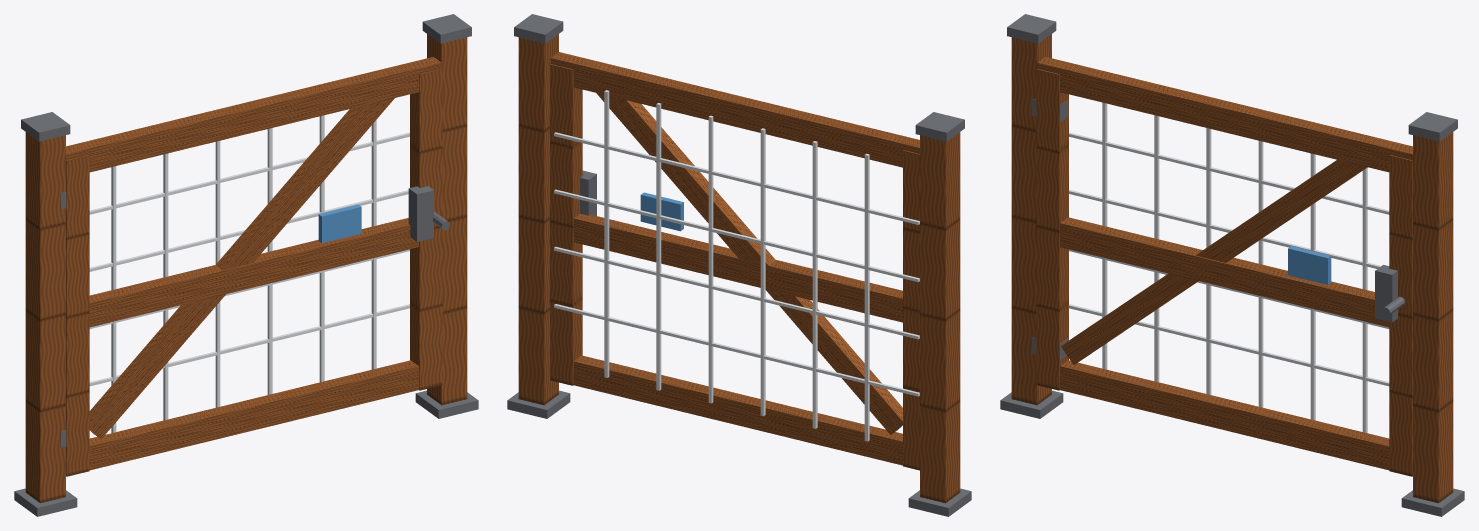
File: boarding-kennels-and-cattery-boarding-kennels-and-catt-5dde4fd3__35572.glb
3 renders of one model, left to right at view 1: azimuth 30°, elevation 25°; view 2: azimuth 150°, elevation 25°; view 3: azimuth 330°, elevation 25°, orthographic.
Parts seen in each view (by area): view 1: paddock-gate-leaf/wood, boarding-kennels-and-cattery-paddock-gate-panel, paddock-gate-leaf/steel, paddock-gate-leaf/charcoal, paddock-gate-leaf/blue; view 2: paddock-gate-leaf/wood, boarding-kennels-and-cattery-paddock-gate-panel, paddock-gate-leaf/steel, paddock-gate-leaf/blue, paddock-gate-leaf/charcoal; view 3: paddock-gate-leaf/wood, boarding-kennels-and-cattery-paddock-gate-panel, paddock-gate-leaf/steel, paddock-gate-leaf/charcoal, paddock-gate-leaf/blue.
Part boxes in pixels (x1=…): paddock-gate-leaf/wood: x1=66, y1=57, x2=442, y2=476; boarding-kennels-and-cattery-paddock-gate-panel: x1=14, y1=14, x2=478, y2=516; paddock-gate-leaf/steel: x1=89, y1=115, x2=409, y2=433; paddock-gate-leaf/charcoal: x1=60, y1=186, x2=449, y2=447; paddock-gate-leaf/blue: x1=318, y1=204, x2=361, y2=243; paddock-gate-leaf/wood: x1=550, y1=52, x2=919, y2=470; boarding-kennels-and-cattery-paddock-gate-panel: x1=507, y1=14, x2=971, y2=516; paddock-gate-leaf/steel: x1=554, y1=90, x2=919, y2=441; paddock-gate-leaf/blue: x1=640, y1=192, x2=683, y2=231; paddock-gate-leaf/charcoal: x1=580, y1=170, x2=596, y2=215; paddock-gate-leaf/wood: x1=1036, y1=57, x2=1412, y2=476; boarding-kennels-and-cattery-paddock-gate-panel: x1=1000, y1=14, x2=1464, y2=516; paddock-gate-leaf/steel: x1=1069, y1=102, x2=1389, y2=433; paddock-gate-leaf/charcoal: x1=1031, y1=99, x2=1404, y2=360; paddock-gate-leaf/blue: x1=1288, y1=246, x2=1331, y2=284.
Size of the model in its own units: 1.55 by 1.28 by 0.21.
Materials: 4 (1 with a texture image).
